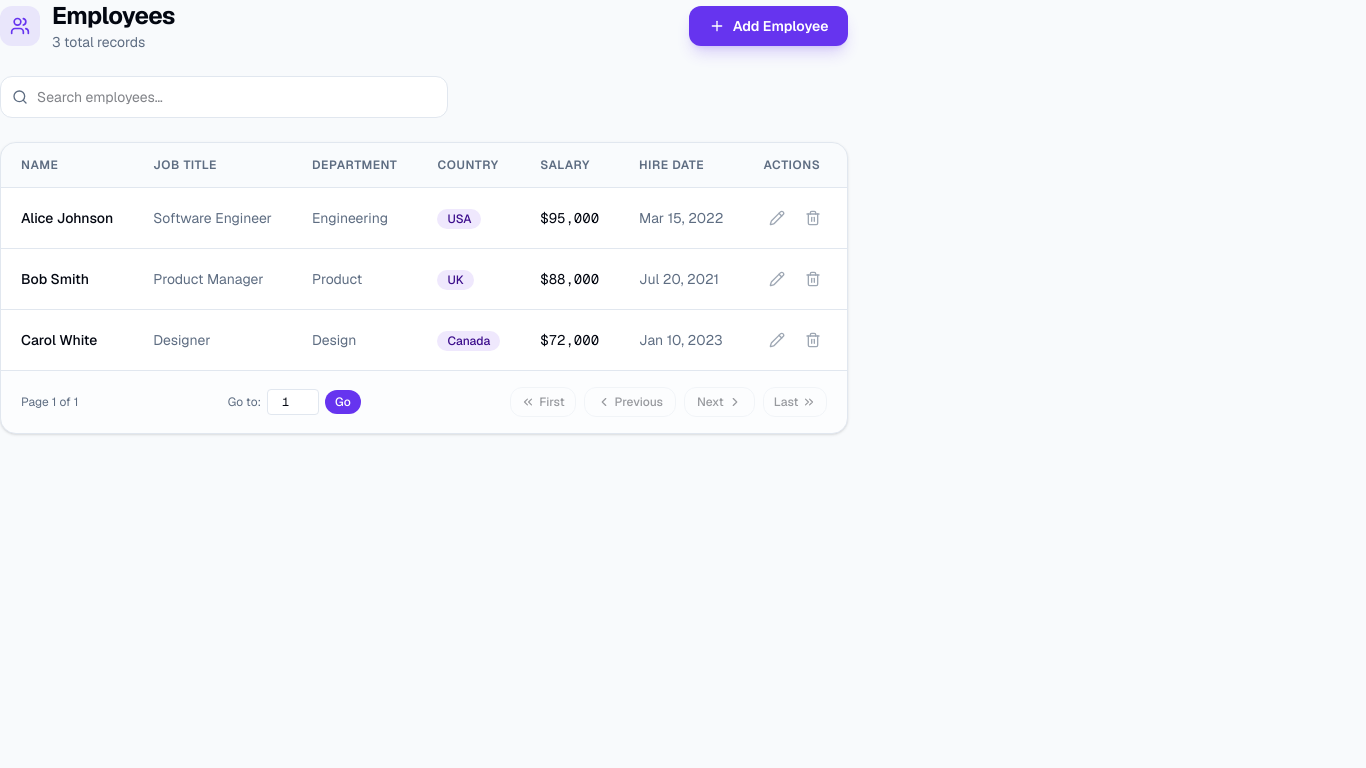
Scenario: Employees Page › Delete Employee › shows a confirmation dialog when delete is clicked
Check: the text "Alice Johnson" is shown, box [1,188,133,248]
Click the button named "delete" in the row of "Alice Johnson". click: (813, 218)
box: [799,204,827,232]
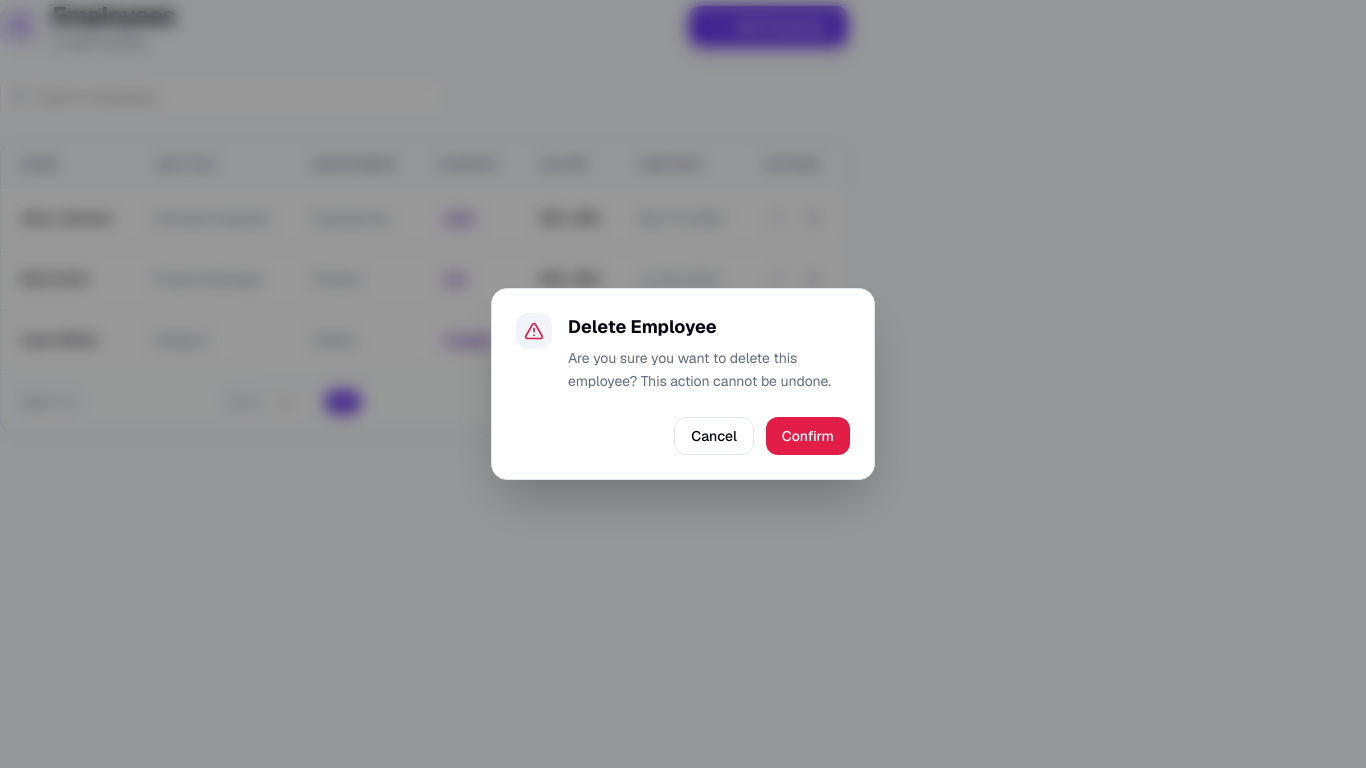
Check: the dialog is shown
Check: the text "Are you sure" is shown, box [568,349,831,390]
